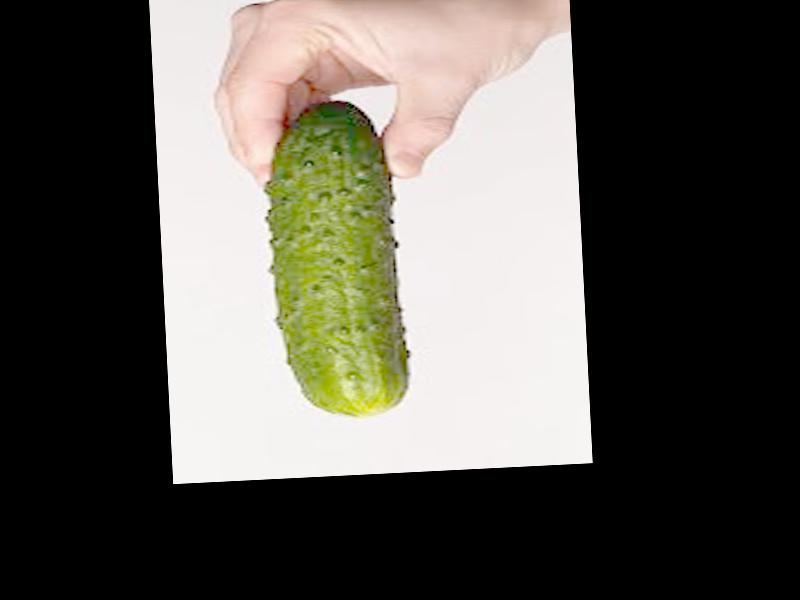Cucumber: (262, 97, 401, 419)
